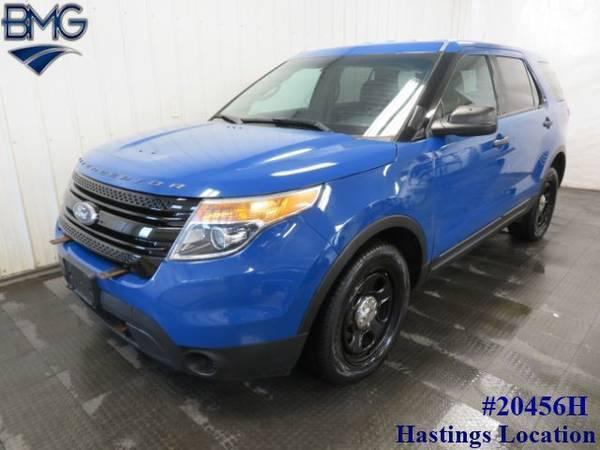Front_Bumper: (45, 219, 334, 384)
Front_Fender: (290, 144, 429, 287)
Front_Left_Door: (422, 120, 501, 276)
Front_Left_Window: (423, 55, 497, 140)
Front_Windshield: (210, 55, 438, 142)
Grille: (47, 174, 191, 285)
Hood: (62, 125, 384, 205)
Left_Taillight: (158, 189, 314, 266)
Rear_Fender: (532, 65, 567, 156)
Rear_Left_Door: (498, 109, 553, 231)
Rear_Left_Window: (490, 57, 546, 118)
Roof: (294, 41, 550, 145)
Wheel: (317, 245, 408, 381), (510, 167, 557, 240)
